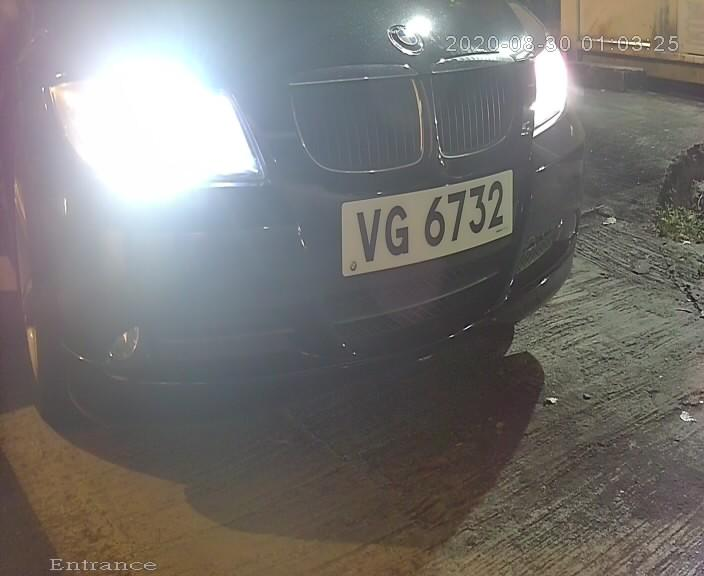License Plate: (334, 163, 513, 286)
